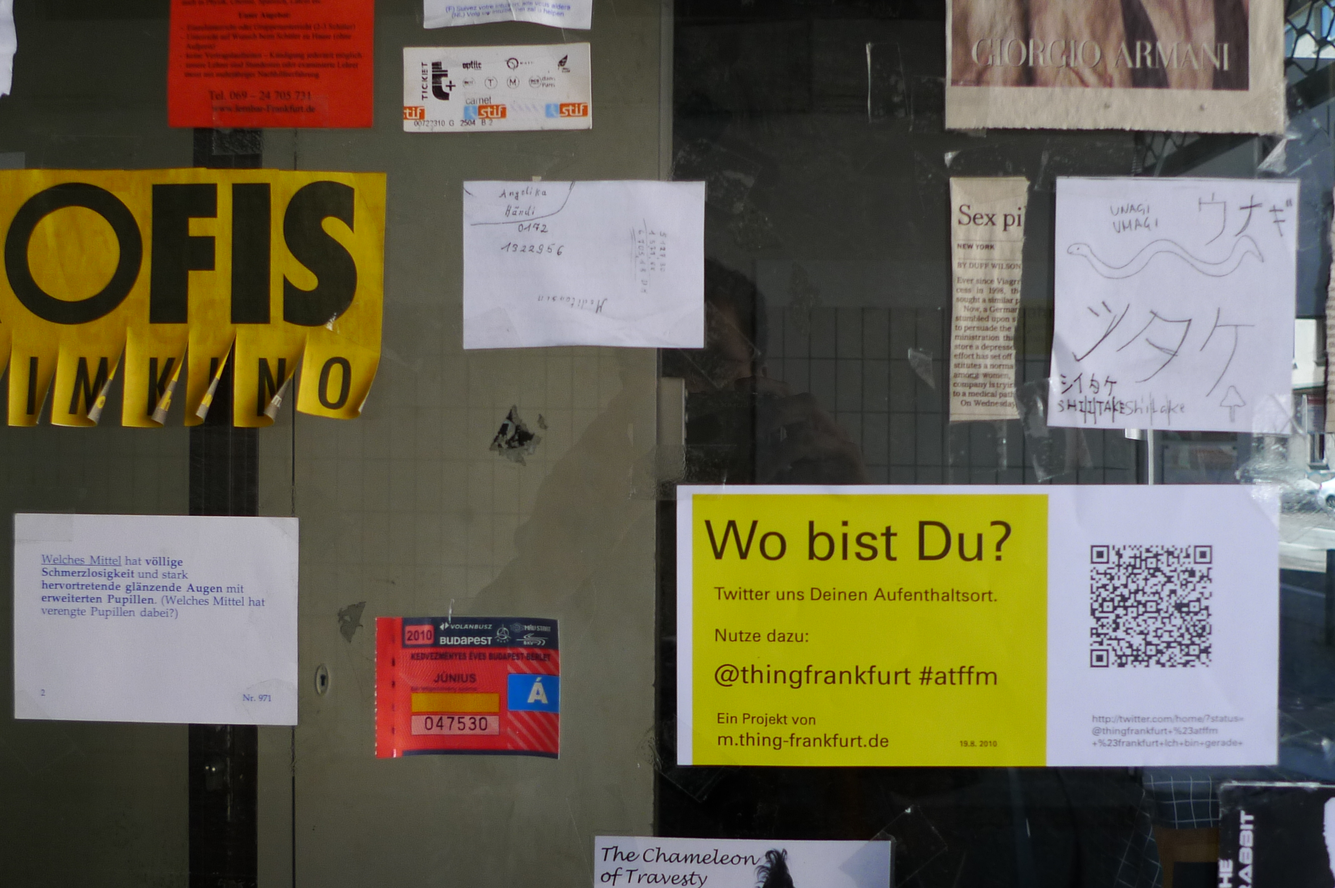QR-CODE: (1090, 545, 1212, 667)
